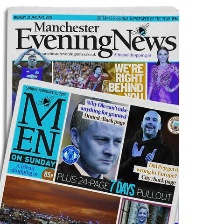news_paper: (4, 2, 184, 171), (0, 87, 197, 224)
